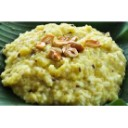venpongal: (6, 25, 124, 104)
